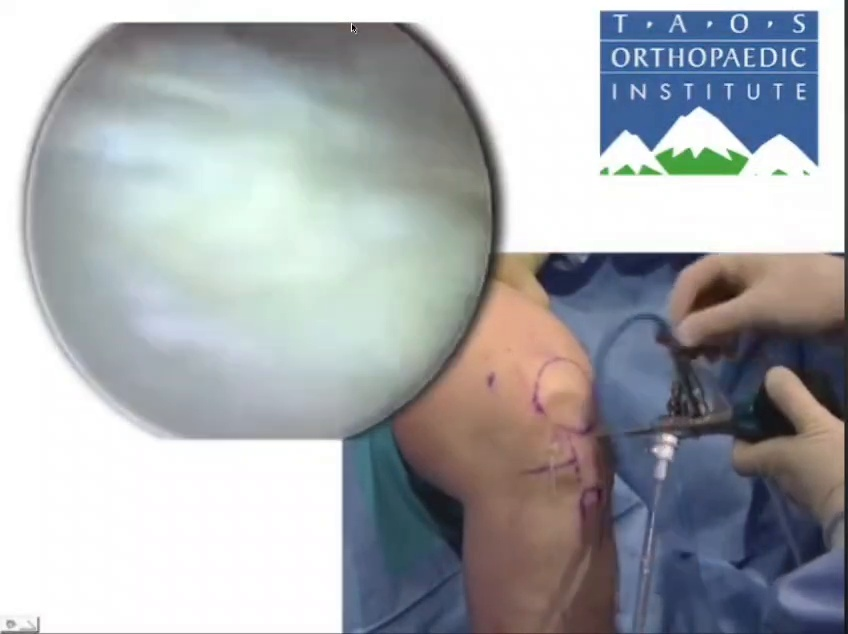arthroscope: (735, 357, 848, 519), (145, 0, 378, 52)
probe: (514, 394, 606, 551), (605, 467, 670, 634)
